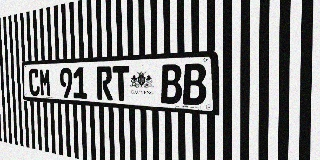1: (72, 67, 87, 99)
9: (59, 67, 73, 98)
B: (183, 63, 206, 106), (160, 64, 182, 104)
C: (28, 68, 40, 96)
M: (39, 68, 51, 97)
R: (96, 66, 113, 100)
T: (112, 66, 130, 101)
